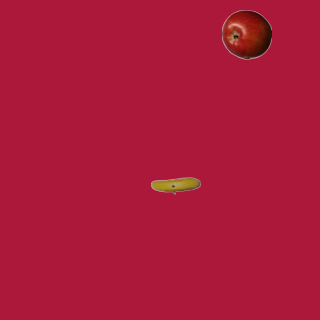Apple Braeburn: (221, 9, 271, 59)
Banana: (150, 160, 200, 210)
